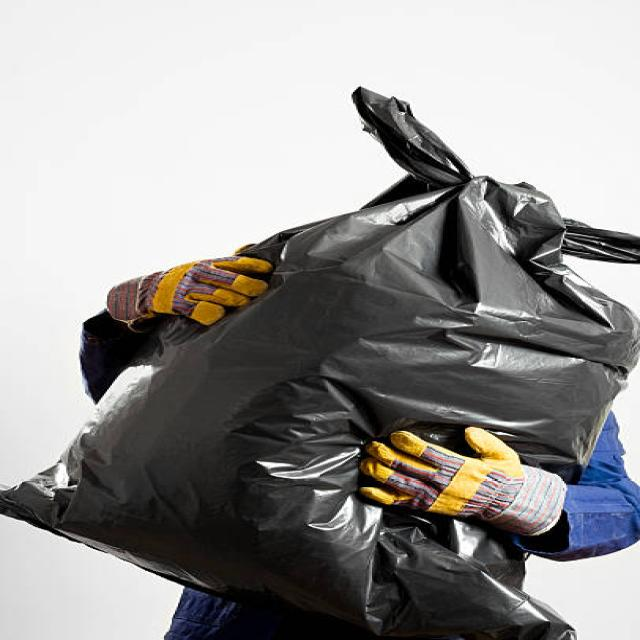trash: (2, 77, 621, 630)
